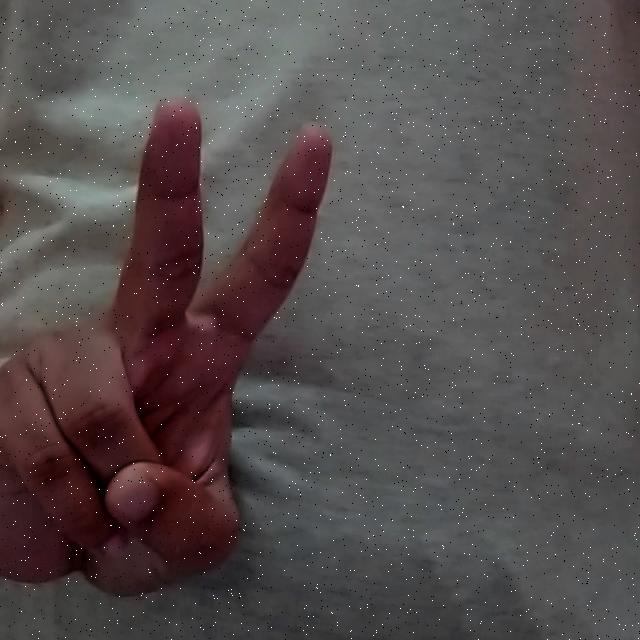V: (12, 87, 342, 603)
